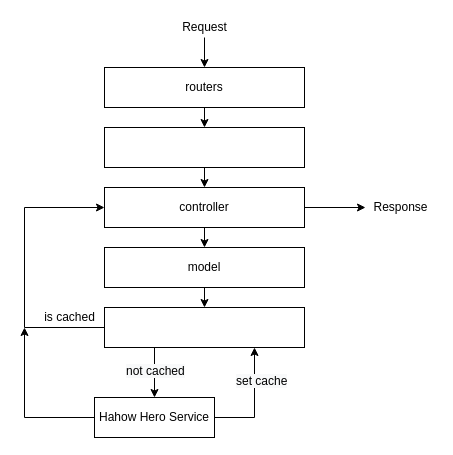
Some shapes in this 453 by 455 pixel diagram are drawn without their labels. Each missing label, with the centre of its shape:
"auth middleware" belongs at (x=204, y=147).
"cache" belongs at (x=204, y=327).
